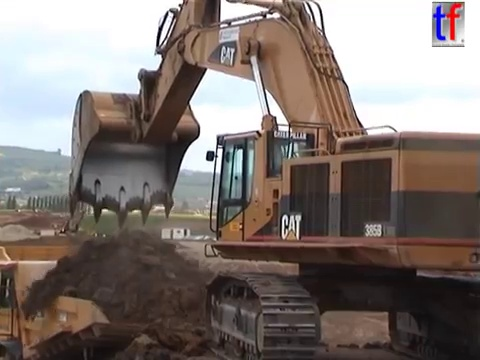excavator: (65, 1, 480, 360), (52, 218, 86, 239)
truck: (1, 240, 234, 360)
